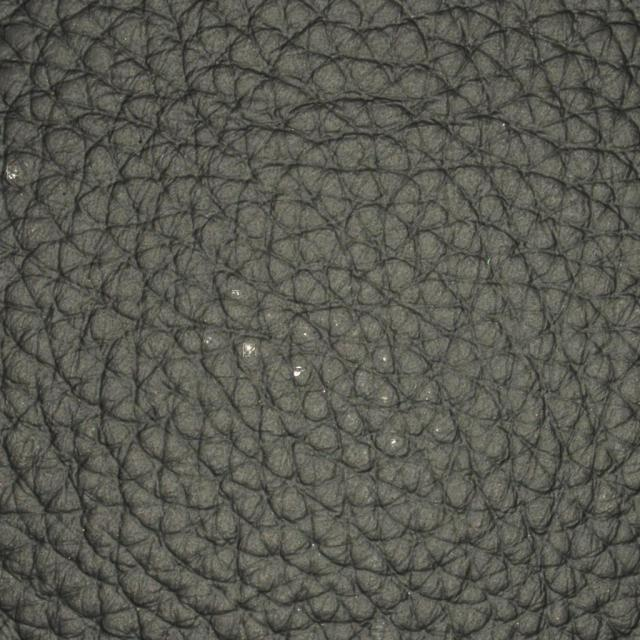Rotten surface: (190, 316, 443, 492)
